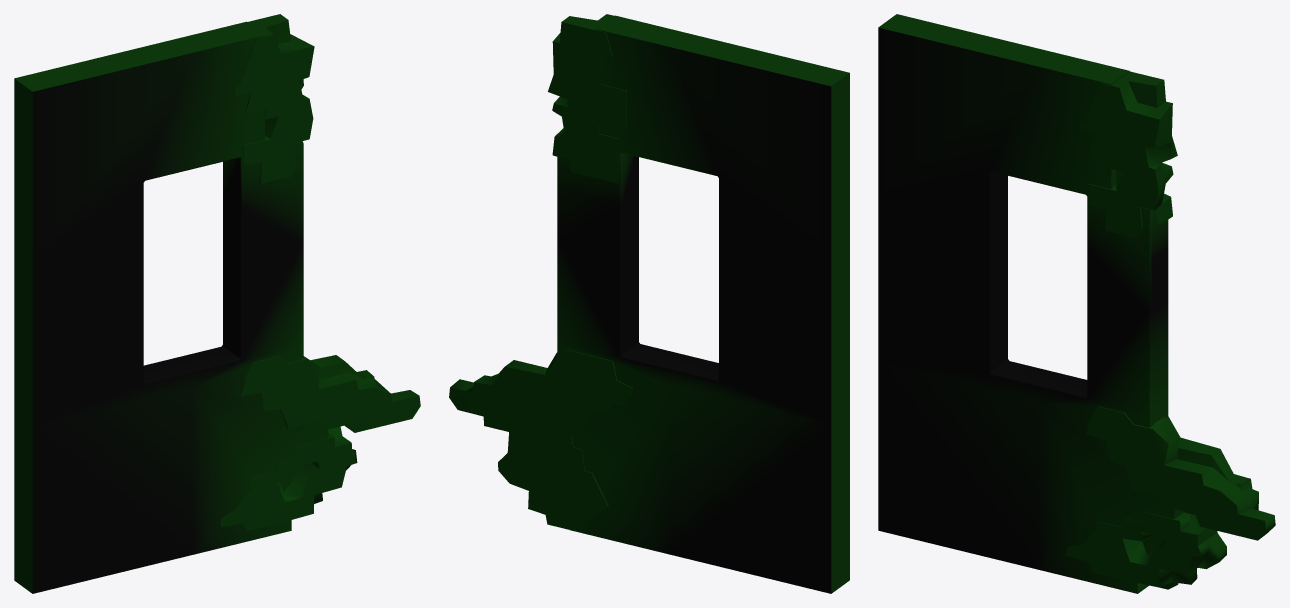
Rendered from DBK_Brick_WinDouble_Side.fbx.
The picture shows the model from 3 angles, left to right: view 1: azimuth 30°, elevation 25°; view 2: azimuth 150°, elevation 25°; view 3: azimuth 330°, elevation 25°; orthographic projection.
Parts seen in each view (by area): view 1: DBK_Brick_WinDouble_Side; view 2: DBK_Brick_WinDouble_Side; view 3: DBK_Brick_WinDouble_Side.
Part boxes in pixels (<box>): DBK_Brick_WinDouble_Side: <box>14,14,420,593</box>; DBK_Brick_WinDouble_Side: <box>449,14,849,593</box>; DBK_Brick_WinDouble_Side: <box>878,14,1275,593</box>.
Size of the model in its own units: 242 by 300 by 21.
